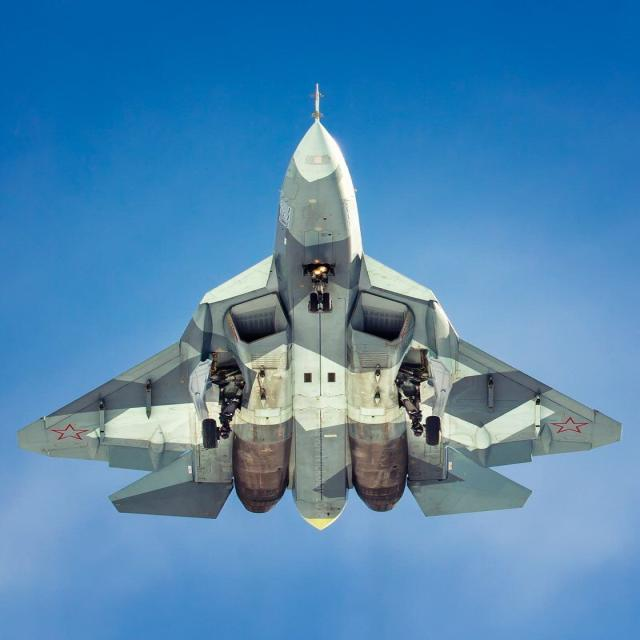MIL_Plane: (16, 83, 621, 531)
